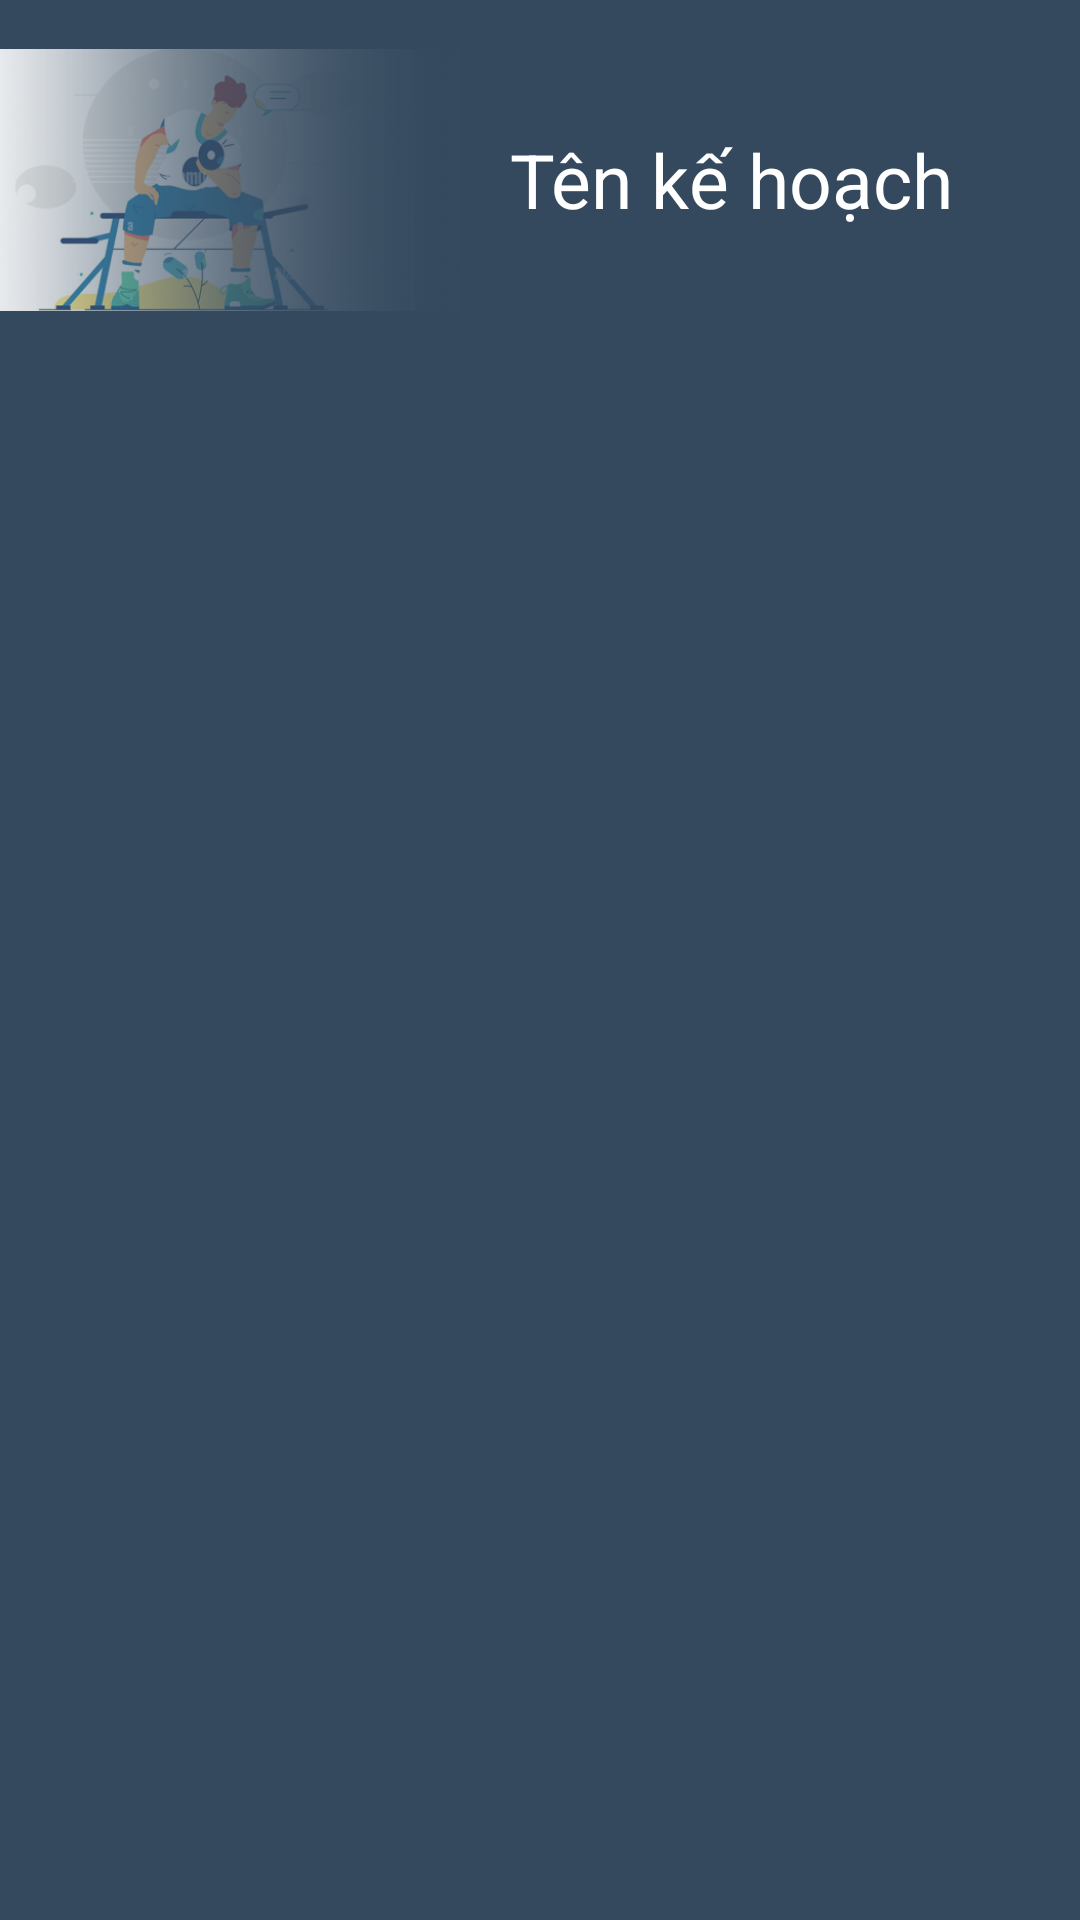

Named icons in this screenshot (1080px×1920px) and their bounding boxes, (x1, y1, x2, y2):
tapthehinh: (0, 49, 301, 311)
